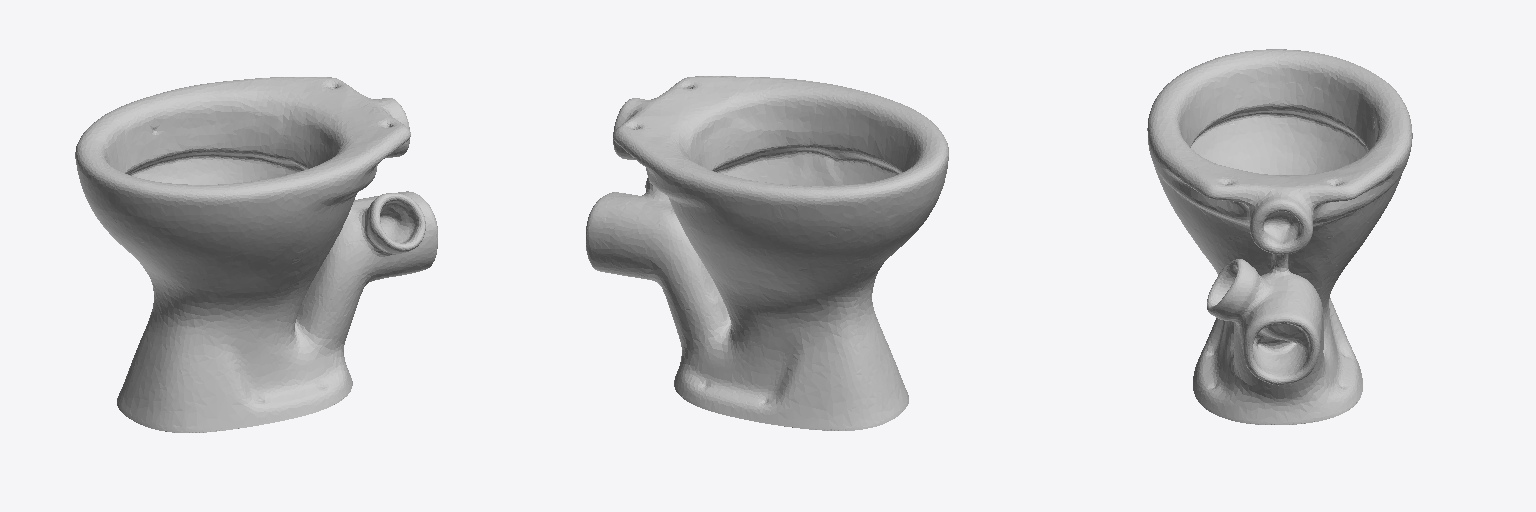
The model's file is polhemus_toilet.obj.
3 renders of one model, left to right at view 1: azimuth 30°, elevation 25°; view 2: azimuth 150°, elevation 25°; view 3: azimuth 270°, elevation 25°, orthographic.
Bounding box in the file's own units: 2 × 1.48 × 1.38.